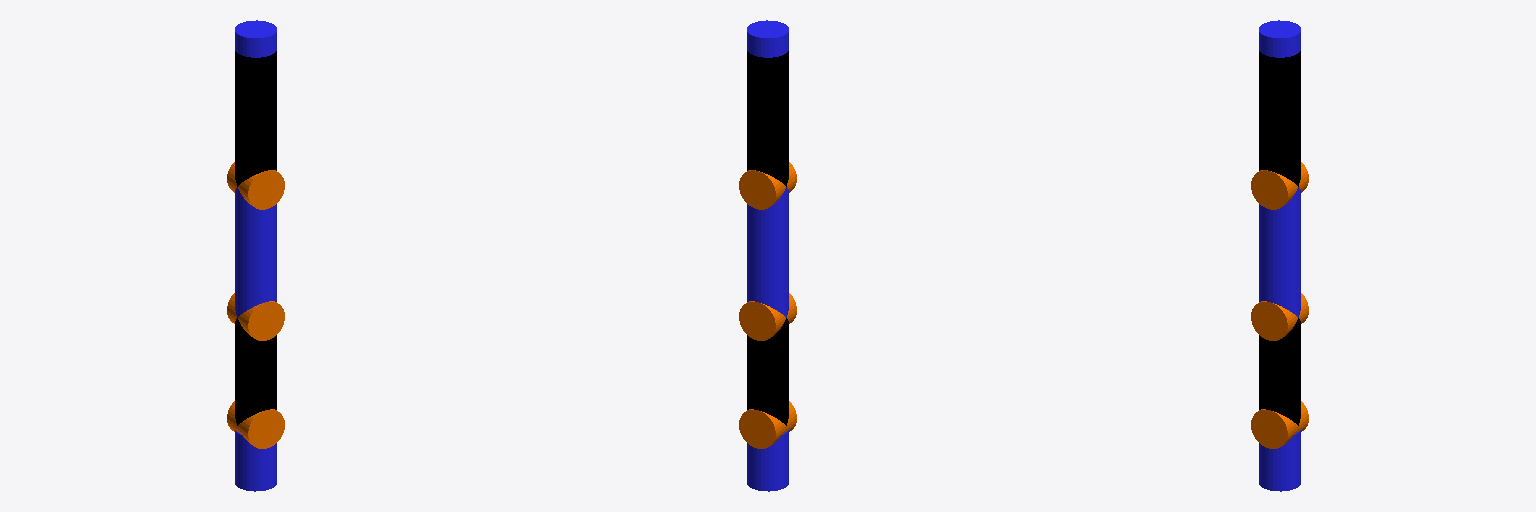
The robot description file, URDF, robot "robot_arm":
<?xml version="1.0"?>
<robot name="robot_arm">
  <material name="Blue">
    <color rgba="0.2 0.2 1.0 1.0"/>
  </material>
  <material name="Orange">
    <color rgba="1.0 0.5 0.0 1.0"/>
  </material>
  <material name="Black">
    <color rgba="0.0 0.0 0.0 1.0"/>
  </material>

  <link name="linkmount"/>
  <link name="link1">
    <visual>
      <origin xyz="0 0 0.07"/>
      <geometry>
        <cylinder radius="0.05" length="0.14"/>
      </geometry>
      <material name="Blue"/>
    </visual>
  </link>
  <link name="link2">
    <visual>
      <origin xyz="0 0 0"/>
      <geometry>
        <cylinder radius="0.05" length="0.1"/>
      </geometry>
      <material name="Orange"/>
    </visual>
    <visual>
      <origin xyz="0 0.14 0" rpy="1.570796 0 0"/>
      <geometry>
        <cylinder radius="0.05" length="0.28"/>
      </geometry>
      <material name="Black"/>
    </visual>
  </link>
  <link name="link3">
    <visual>
      <origin xyz="0 0 0"/>
      <geometry>
        <cylinder radius="0.05" length="0.1"/>
      </geometry>
      <material name="Orange"/>
    </visual>
  </link>
  <link name="link4">
    <visual>
      <origin xyz="0 0 0.17"/>
      <geometry>
        <cylinder radius="0.05" length="0.34"/>
      </geometry>
      <material name="Blue"/>
    </visual>
  </link>
  <link name="link5">
    <visual>
      <origin xyz="0 0 0"/>
      <geometry>
        <cylinder radius="0.05" length="0.1"/>
      </geometry>
      <material name="Orange"/>
    </visual>
    <visual>
      <origin xyz="0 0.173 0" rpy="1.570796 0 0"/>
      <geometry>
        <cylinder radius="0.05" length="0.346"/>
      </geometry>
      <material name="Black"/>
    </visual>
  </link>
  <link name="link6">
    <visual>
      <origin xyz="0 0 0.025"/>
      <geometry>
        <cylinder radius="0.05" length="0.05"/>
      </geometry>
      <material name="Blue"/>
    </visual>
  </link>
  <link name="tcp"/>

<joint name="joint1" type="revolute">
  <origin xyz="0 0 0" rpy="0 0 0"/>
  <parent link="linkmount"/>
  <child link="link1"/>
  <axis xyz="0 0 1.0"/>
  <limit lower="-1" upper="1"/>
</joint>

<joint name="joint2" type="revolute">
  <origin xyz="0 0 0.158" rpy="1.570796 0 0"/>
  <parent link="link1"/>
  <child link="link2"/>
  <axis xyz="0 0 -1.0"/>
  <limit lower="-1"/>
</joint>

<joint name="joint3" type="revolute">
  <origin xyz="0 0.28 0" rpy="0 0 0"/>
  <parent link="link2"/>
  <child link="link3"/>
  <axis xyz="0 0 -1.0"/>
  <limit upper="1"/>
</joint>

<joint name="joint4" type="revolute">
  <origin xyz="0 0 0" rpy="-1.570796 0 0"/>
  <parent link="link3"/>
  <child link="link4"/>
  <axis xyz="0 0 1.0"/>
</joint>

<joint name="joint5" type="revolute">
  <origin xyz="0 0 0.34" rpy="1.570796 0 0"/>
  <parent link="link4"/>
  <child link="link5"/>
  <axis xyz="0 0 -1.0"/>
</joint>

<joint name="joint6" type="revolute">
  <origin xyz="0 0.346 0" rpy="-1.570796 0 0"/>
  <parent link="link5"/>
  <child link="link6"/>
  <axis xyz="0 0 1.0"/>
</joint>

<joint name="jointtcp" type="fixed">
  <origin xyz="0 0 0.05" rpy="0 0 0"/>
  <parent link="link6"/>
  <child link="tcp"/>
</joint>
</robot>

--- Facts derived from the render (not from the file) ---
The picture shows the robot from 3 angles, left to right: view 1: azimuth 30°, elevation 25°; view 2: azimuth 150°, elevation 25°; view 3: azimuth 330°, elevation 25°; orthographic projection.
Robot: robot_arm — 8 links, 7 joints (6 revolute, 1 fixed); root link linkmount; default pose: all joints at 0.
Links seen in each view (by area): view 1: link5, link2, link4, link1, link3, link6; view 2: link5, link2, link4, link1, link3, link6; view 3: link5, link2, link4, link1, link3, link6.
Boxes of the visible links, <box> form: link5: <box>227,51,284,209</box>; link2: <box>227,318,284,448</box>; link4: <box>235,187,276,317</box>; link1: <box>235,430,276,491</box>; link3: <box>227,293,284,340</box>; link6: <box>235,20,276,57</box>; link5: <box>739,51,796,209</box>; link2: <box>739,318,796,448</box>; link4: <box>747,187,788,317</box>; link1: <box>747,430,788,491</box>; link3: <box>739,293,796,340</box>; link6: <box>747,20,788,57</box>; link5: <box>1251,51,1308,209</box>; link2: <box>1251,318,1308,448</box>; link4: <box>1259,187,1300,317</box>; link1: <box>1259,430,1300,491</box>; link3: <box>1251,293,1308,340</box>; link6: <box>1259,20,1300,57</box>.
Bounding box of the posed robot: 0.1 × 0.1 × 1.17 m (x, y, z).
Geometry: primitives only (box / cylinder / sphere), no mesh files.